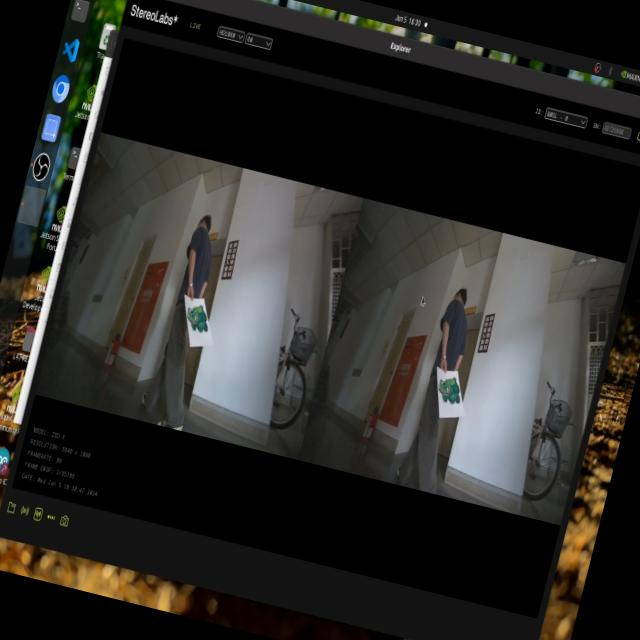green: (428, 368, 468, 414), (182, 300, 210, 336)
